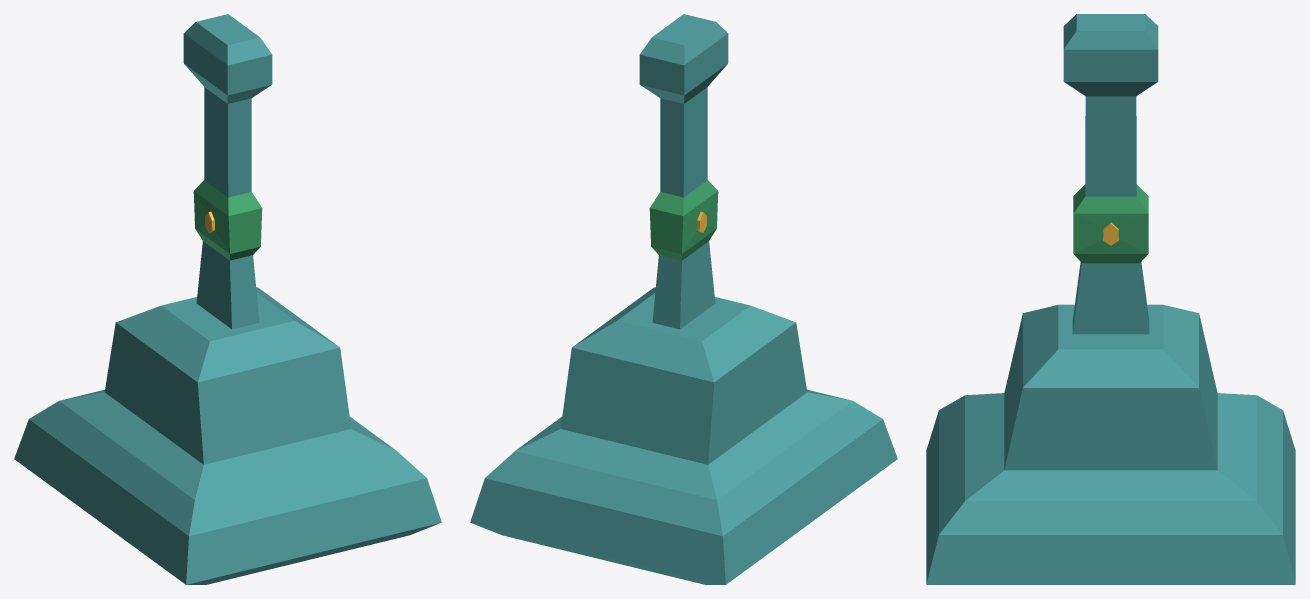
The model's file is Cuerpo.fbx.
3 renders of one model, left to right at view 1: azimuth 30°, elevation 25°; view 2: azimuth 150°, elevation 25°; view 3: azimuth 270°, elevation 25°, orthographic. The views are drawn at different scales.
Parts seen in each view (by area): view 1: Balanza; view 2: Balanza; view 3: Balanza.
Boxes of the visible parts, <box> form: Balanza: <box>14,14,441,584</box>; Balanza: <box>470,14,897,584</box>; Balanza: <box>926,14,1295,584</box>.
Size of the model in its own units: 77.43 by 136 by 90.19.
